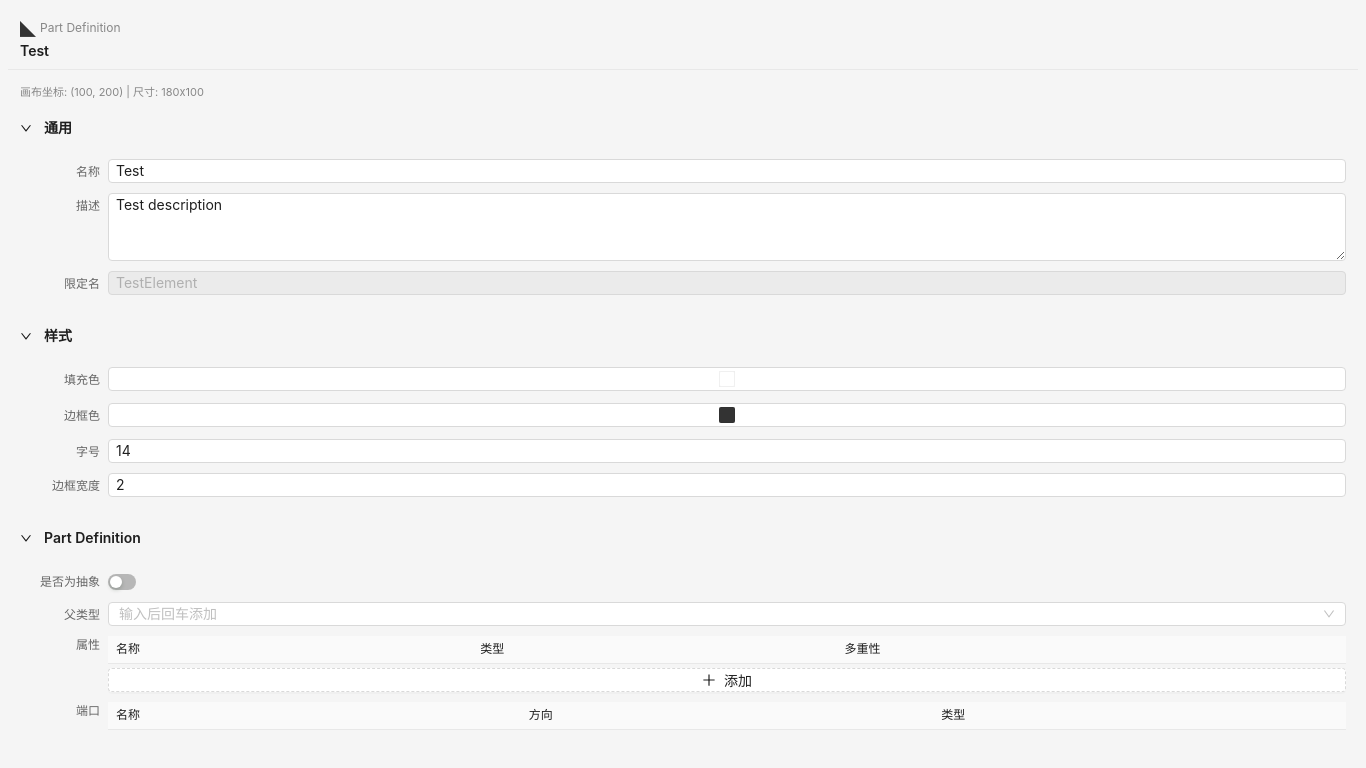
Scenario: Form Validation › 6.4 typing same value should not clear to empty
// Change to a new valid name
Replace the text in the 1st field showing "Test" with "NewValidName" at x=727, y=171, box [108, 159, 1346, 183]
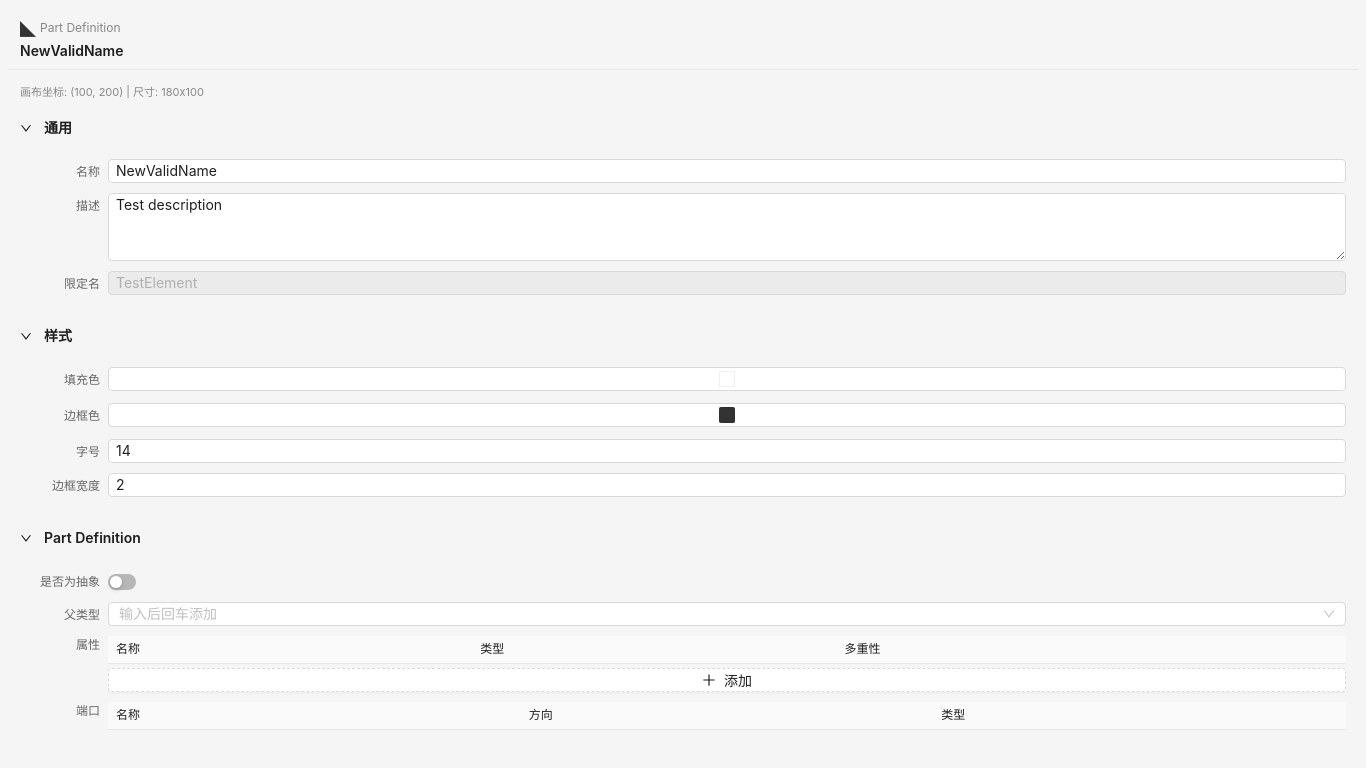
Expected: the heading "NewValidName" is shown, [20, 40, 124, 61]
